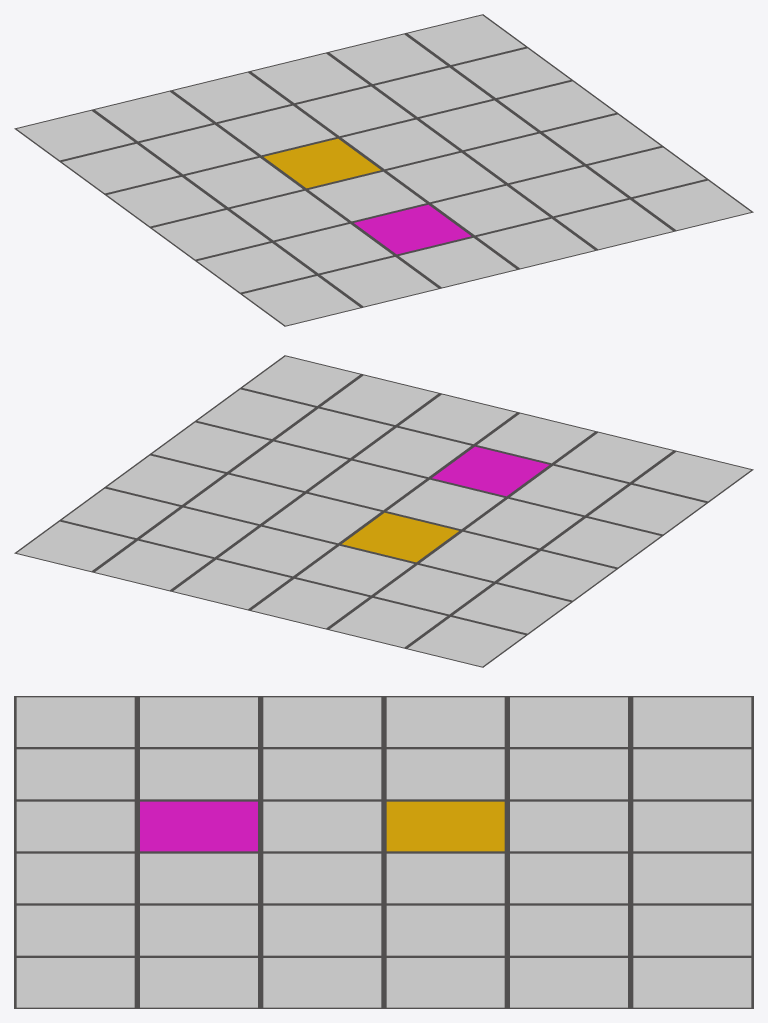
The picture shows the model from 3 angles, top to bottom: view 1: azimuth 30°, elevation 25°; view 2: azimuth 150°, elevation 25°; view 3: azimuth 270°, elevation 25°; orthographic projection. The views are drawn at different scales.
Visible parts, largest first — view 1: Plane.001; view 2: Plane.001; view 3: Plane.001.
Part boxes in pixels (x1,y1,x2,y2): Plane.001: (14, 14, 753, 326); Plane.001: (14, 355, 753, 667); Plane.001: (14, 696, 753, 1008).
Bounding box in the file's own units: 921 × 4.02e-05 × 921.
